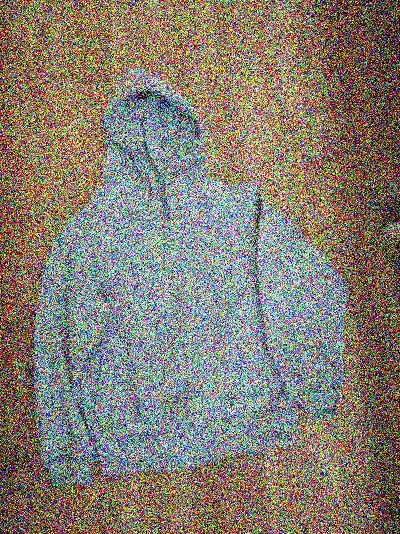Hoodie: (48, 61, 370, 490)
